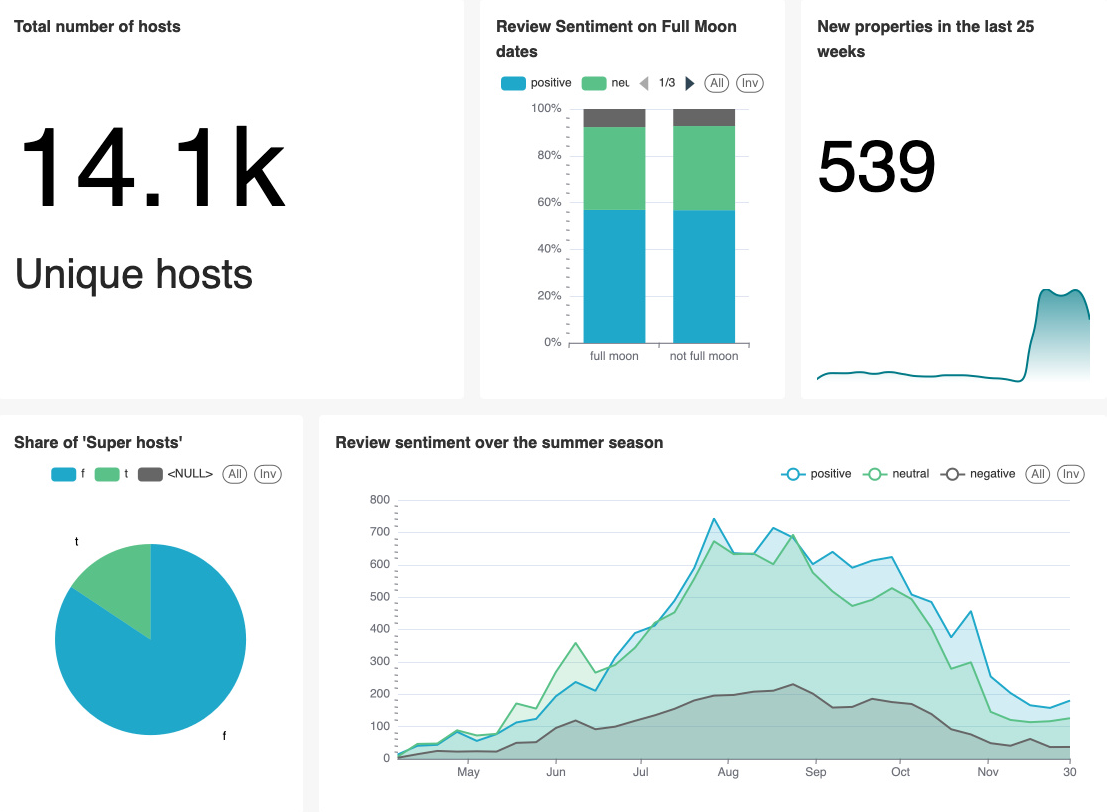

The dashboard page shown, as its layout file describes it:
{"tool":"tableau","page":{"name":"Summary stats","canvas":[1000,800],"ordinal":1},"visuals":[{"type":"blank","box":[8,8,984,32]},{"type":"worksheet","title":"Nr. u Listings","mark":"Automatic","box":[8,40,150,258]},{"type":"worksheet","title":"New listings (wk)","mark":"Area","rows":["LISTING_ID"],"cols":["CREATED_AT"],"box":[158,40,834,258]},{"type":"blank","box":[8,298,984,36]},{"type":"worksheet","title":"SuperH shr","mark":"Pie","box":[8,334,220,257]},{"type":"blank","box":[228,334,22,458]},{"type":"worksheet","title":"Listing types (2)","mark":"Square","rows":["ROOM_TYPE"],"box":[250,334,222,206]},{"type":"blank","box":[472,334,50,458]},{"type":"worksheet","title":"New listings (yr)","mark":"Area","rows":["LISTING_ID"],"cols":["CREATED_AT"],"box":[522,334,470,458]},{"type":"legend","title":"SuperH shr","param":"[federated.0fy481t14suxj81aj3ia71t3bvcg].[none:HOST_IS_SUPERHOST:nk]","box":[16,513,140,62]},{"type":"worksheet","title":"Listing types","mark":"Automatic","box":[250,540,222,247]},{"type":"worksheet","title":"SuperH cnt","mark":"Automatic","rows":["HOST_IS_SUPERHOST"],"box":[8,591,220,105]}]}

Visuals, with their boxes on the page's 1000x800 design canvas (x1, y1, x2, y2). These are canvas units, not pixel positions in the 1107x812 screenshot, which may show the page scaled, cropped or inside an application window:
blank: detection(8, 8, 992, 40)
"Nr. u Listings" worksheet: detection(8, 40, 158, 298)
"New listings (wk)" worksheet (Area marks): detection(158, 40, 992, 298)
blank: detection(8, 298, 992, 334)
"SuperH shr" worksheet (Pie marks): detection(8, 334, 228, 591)
blank: detection(228, 334, 250, 792)
"Listing types (2)" worksheet (Square marks): detection(250, 334, 472, 540)
blank: detection(472, 334, 522, 792)
"New listings (yr)" worksheet (Area marks): detection(522, 334, 992, 792)
"SuperH shr" legend: detection(16, 513, 156, 575)
"Listing types" worksheet: detection(250, 540, 472, 787)
"SuperH cnt" worksheet: detection(8, 591, 228, 696)
